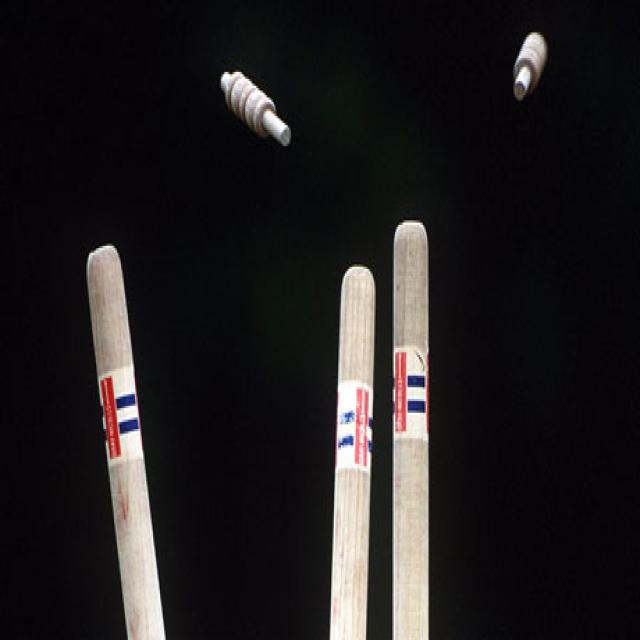stump: (84, 243, 167, 639), (329, 264, 375, 637), (392, 216, 431, 639)
